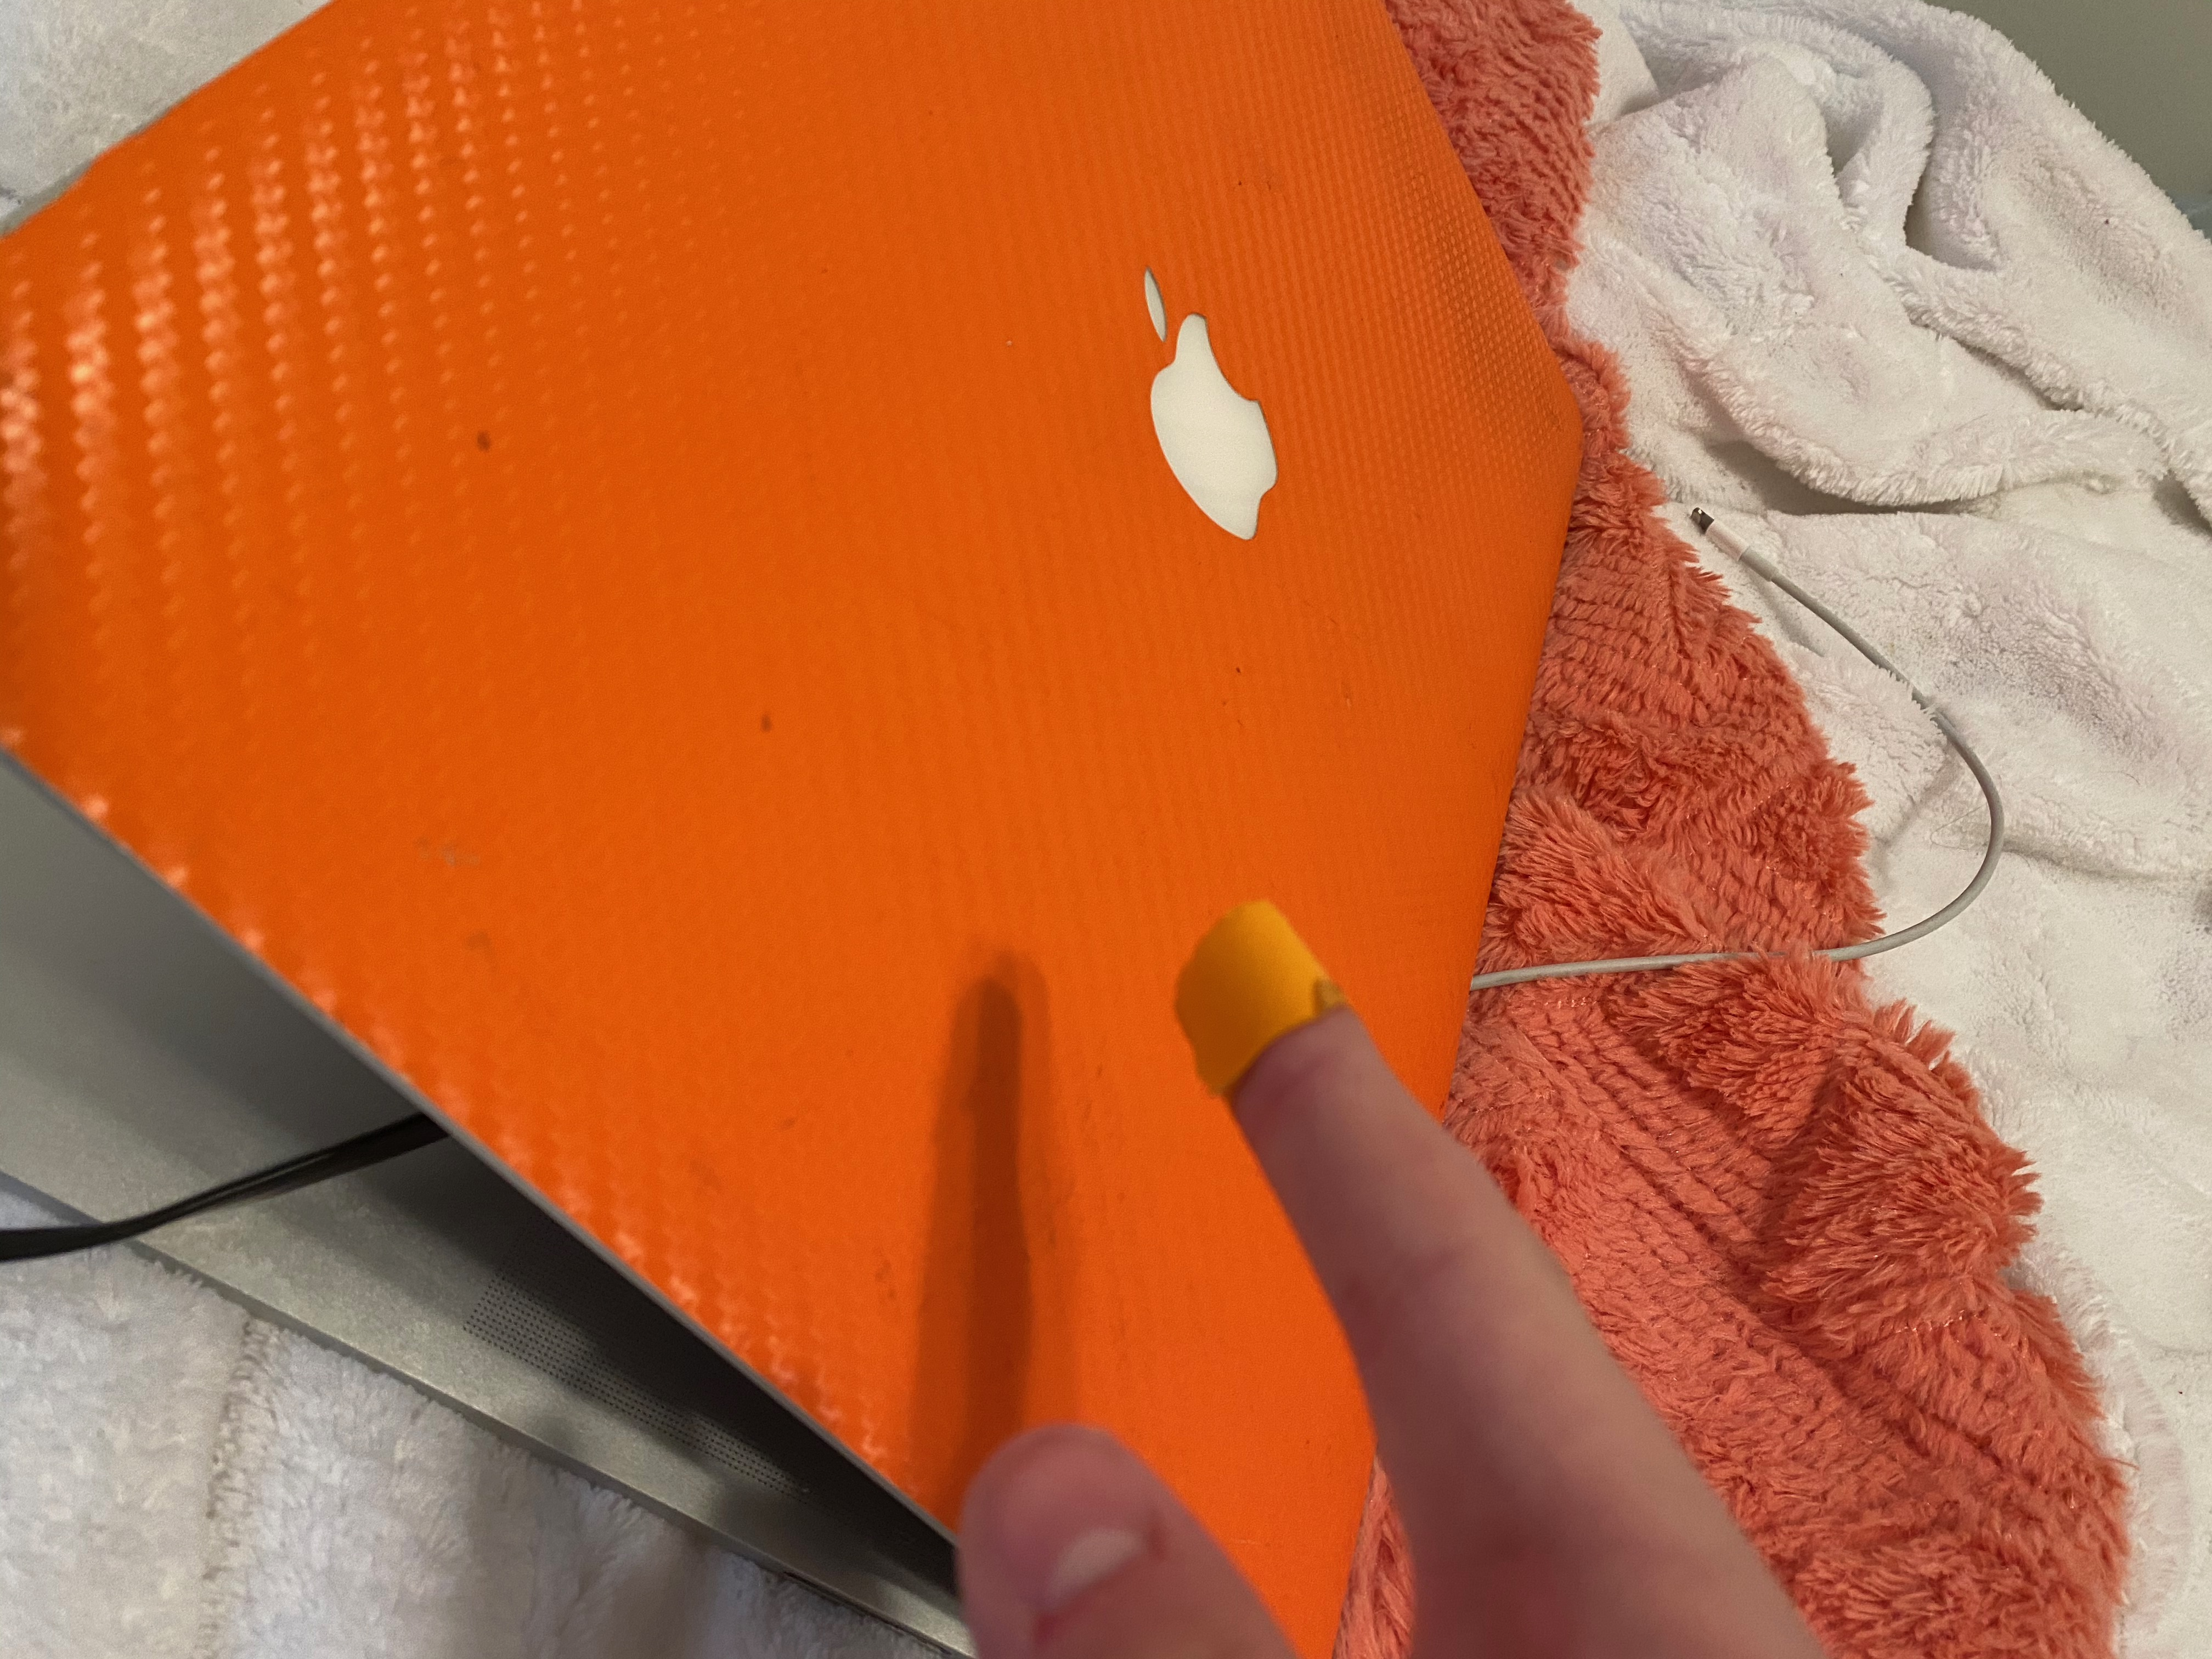fingertip: (1170, 889, 1341, 1086)
